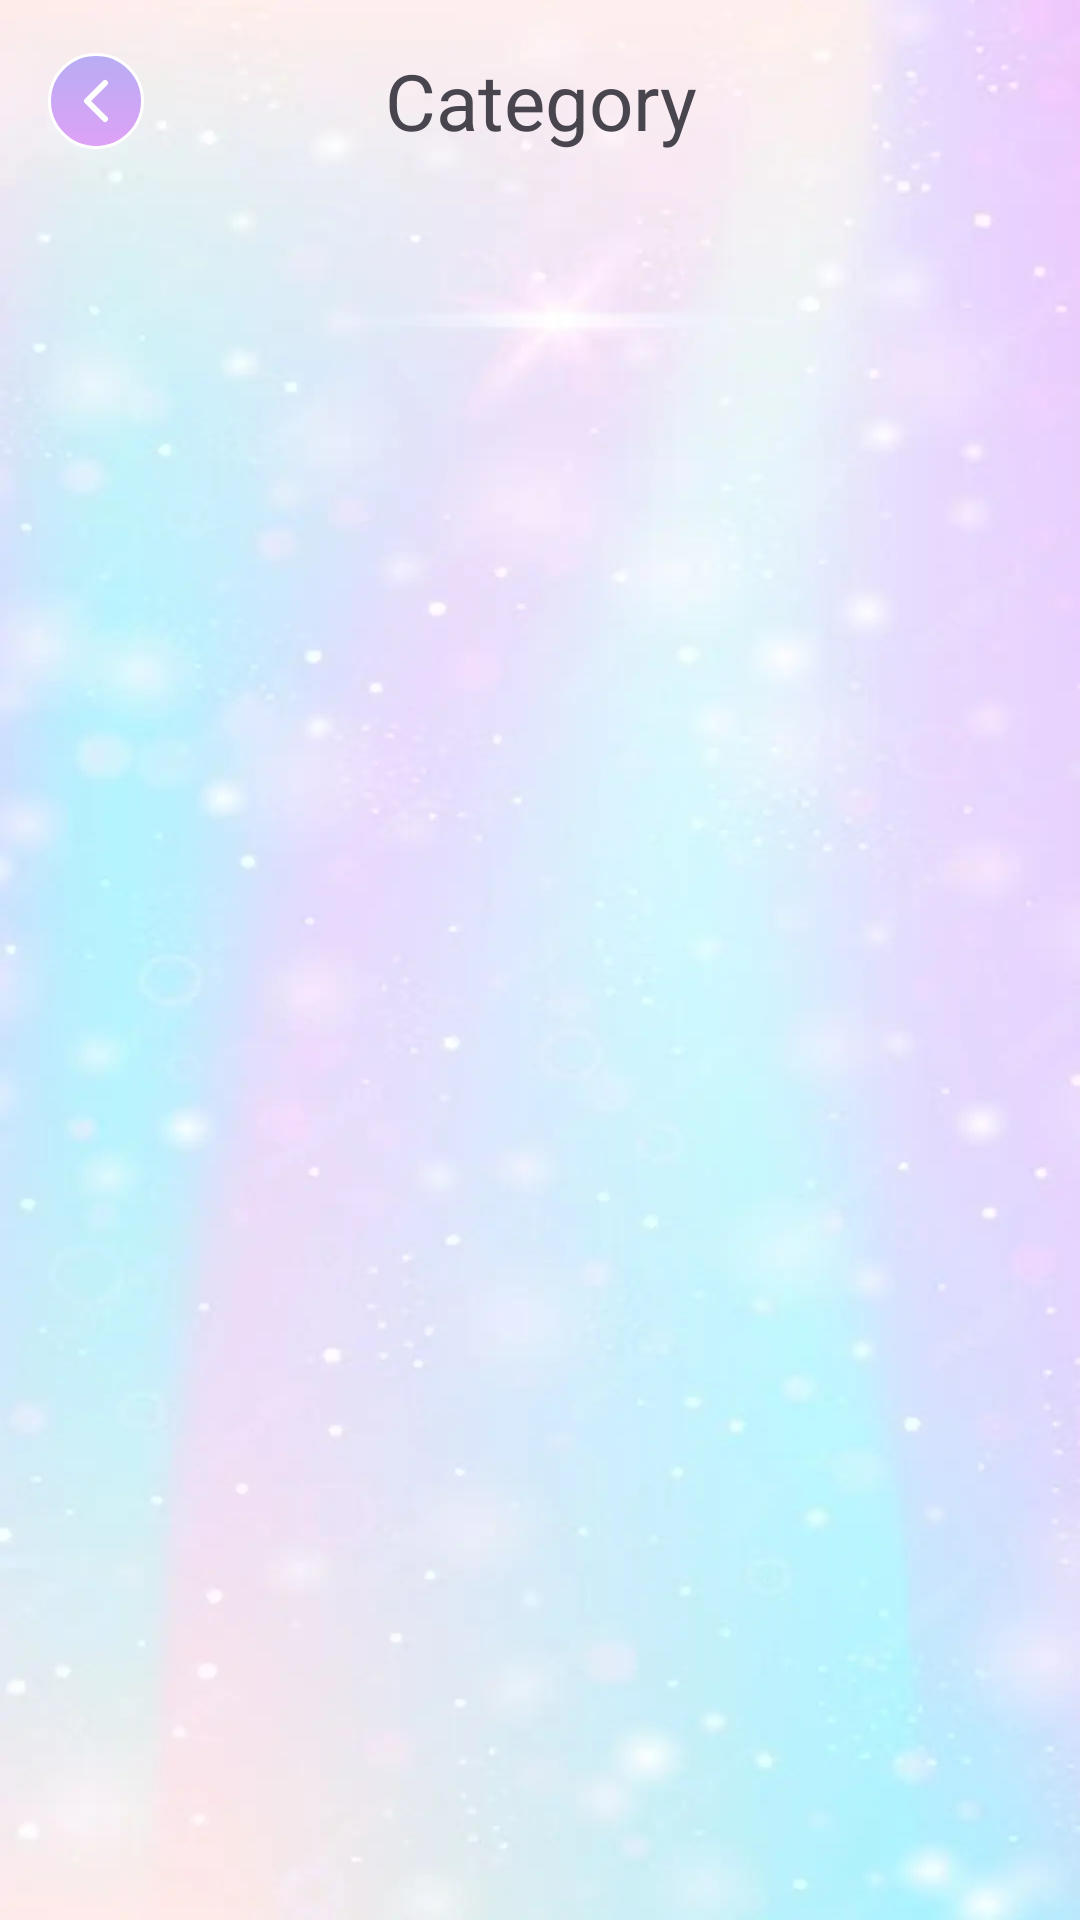

Screen size 1080×1920. Icon name, then its center in pixels as [x,y]:
arrow back: [96,101]
